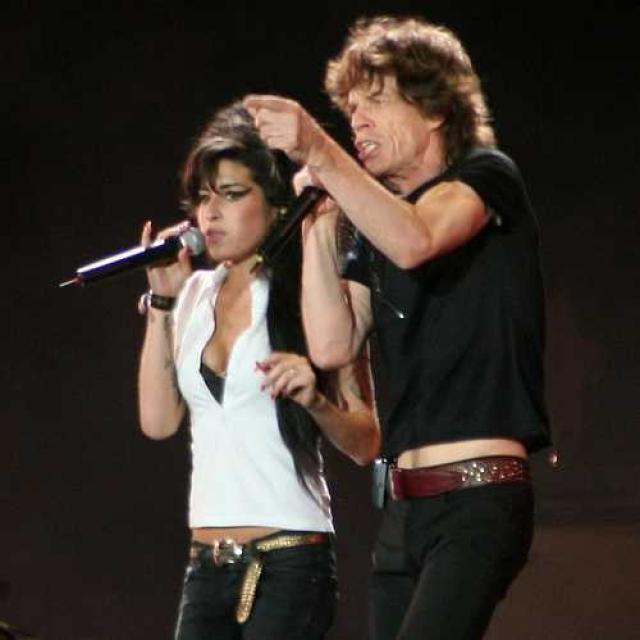microphone: (70, 213, 206, 292), (250, 156, 338, 257)
